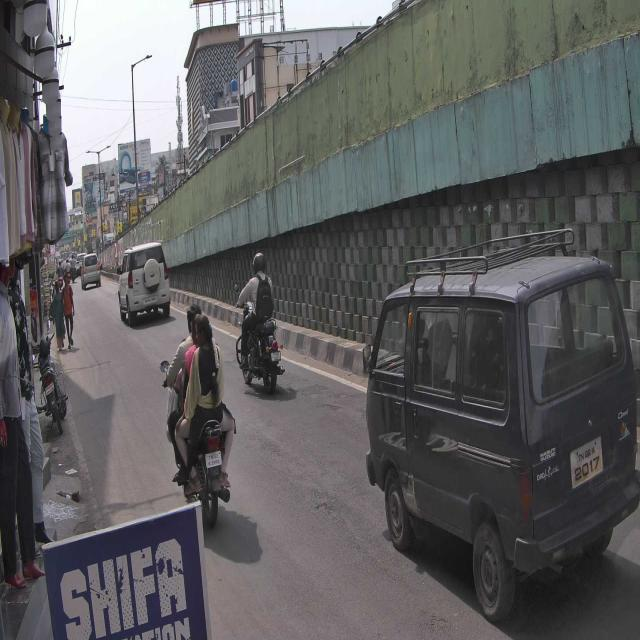triple_rider: (159, 302, 239, 526)
